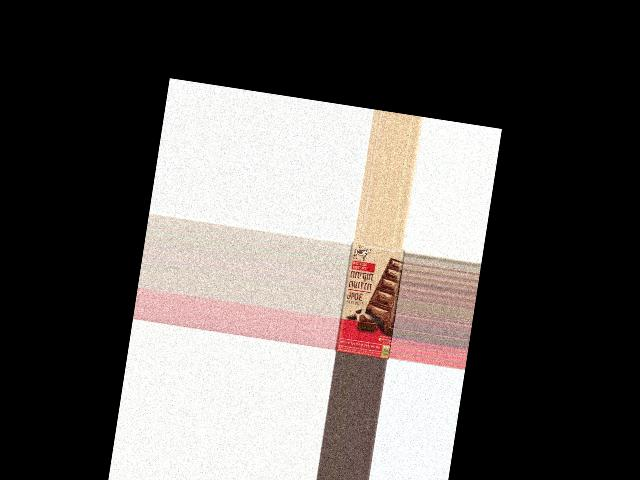chocolate: (334, 241, 405, 358)
